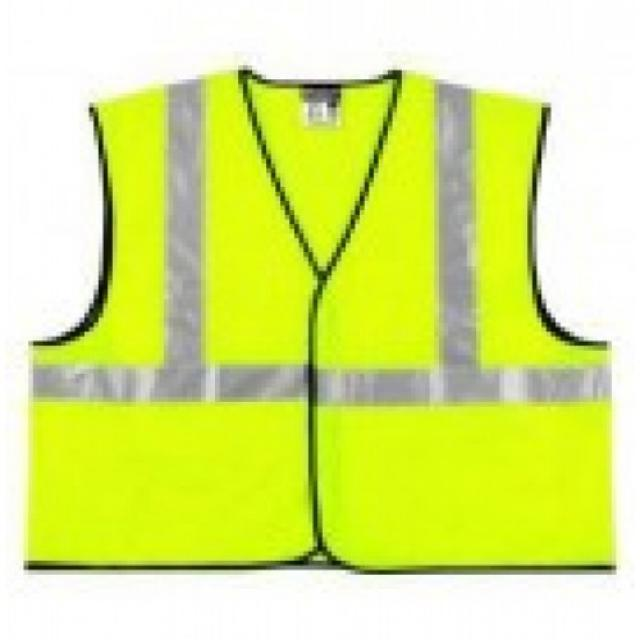Reflective-Jacket: (11, 58, 638, 592)
